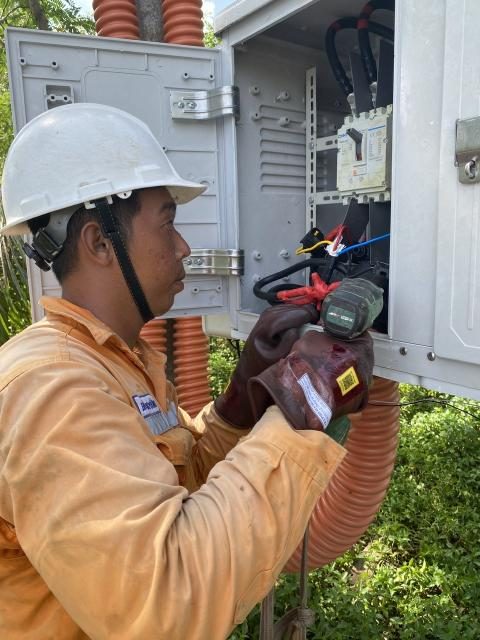gloves: (260, 305, 397, 451), (206, 292, 319, 430)
helmet: (0, 81, 221, 246)
